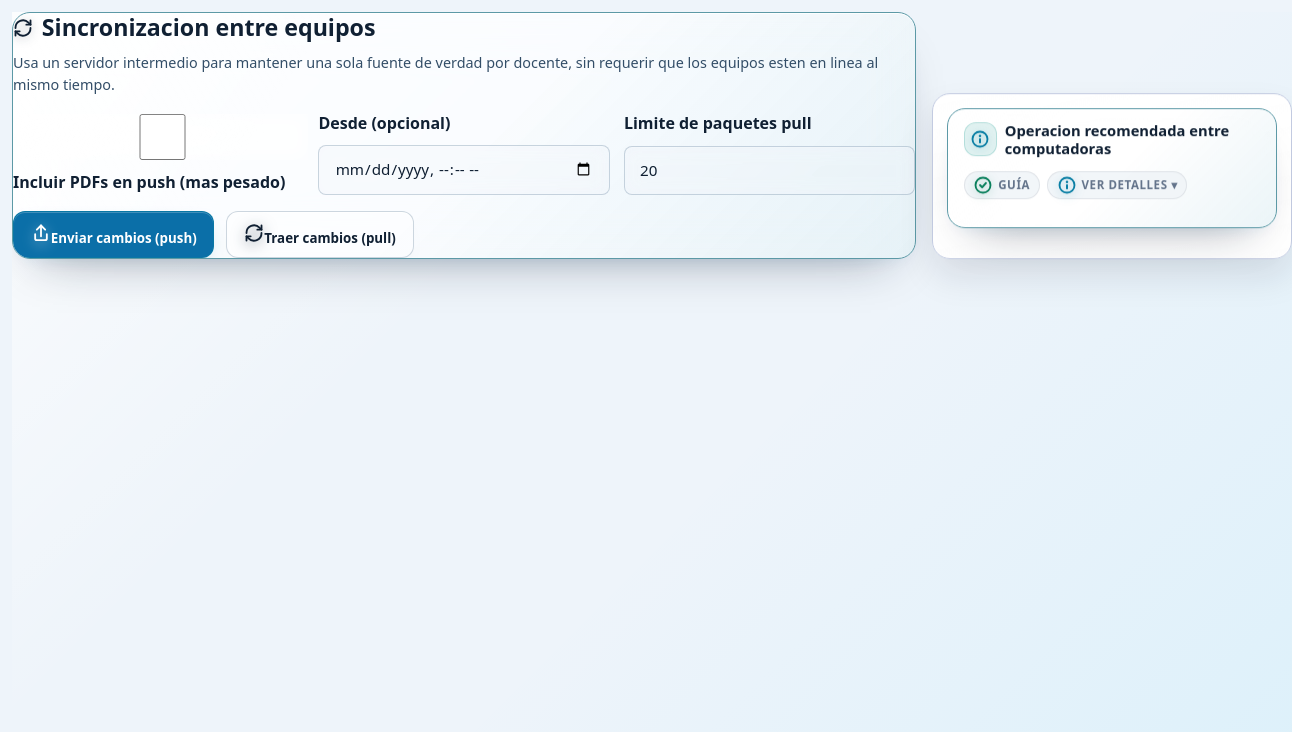
Test: SeccionSincronizacionEquipos › permite traer cambios (pull) y muestra el reporte de paquetes recibidos
This screenshot has width=1292, height=732.
Replace the text in the number field labelled "Limite de paquetes pull" with "50" at (769,170), box [624, 146, 915, 195]
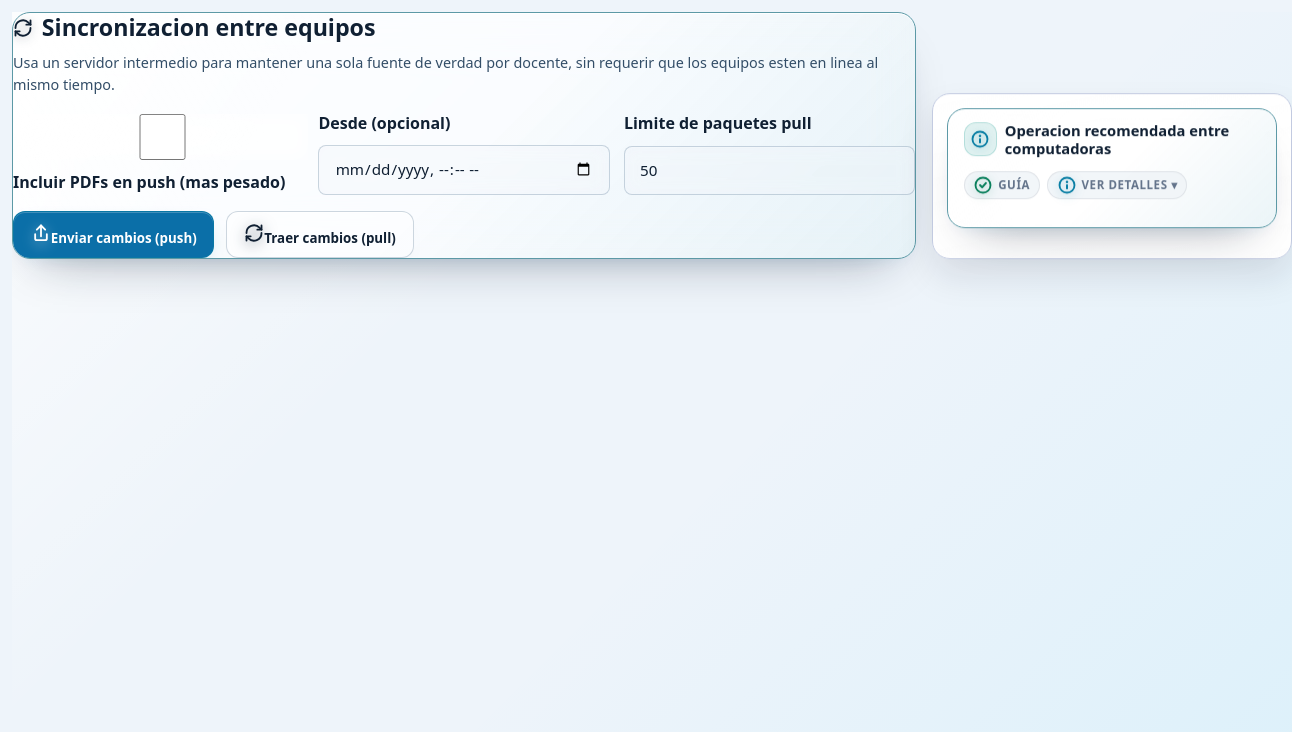
Click the button "Traer cambios (pull)" at (320,235), box [226, 211, 414, 258]
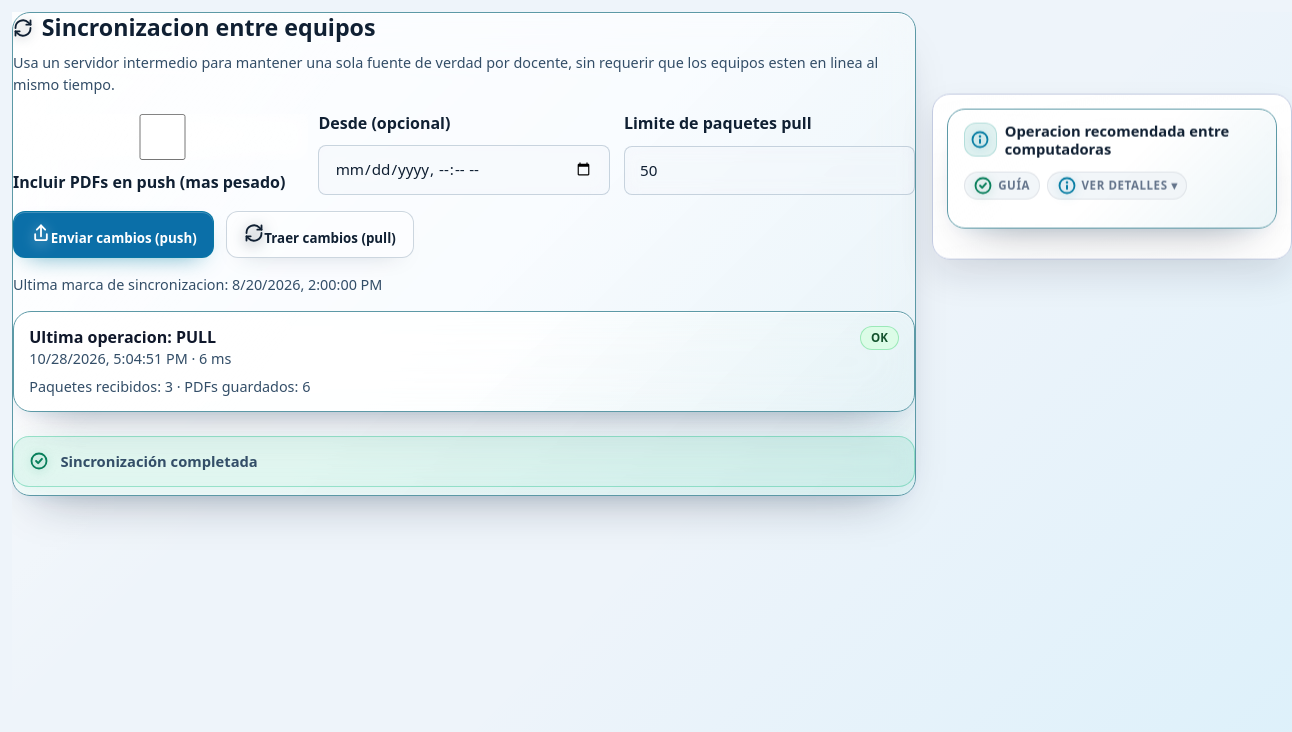
Expected: the text "Paquetes recibidos: 3 · PDFs guardados: 6" is shown, [29, 377, 310, 396]
